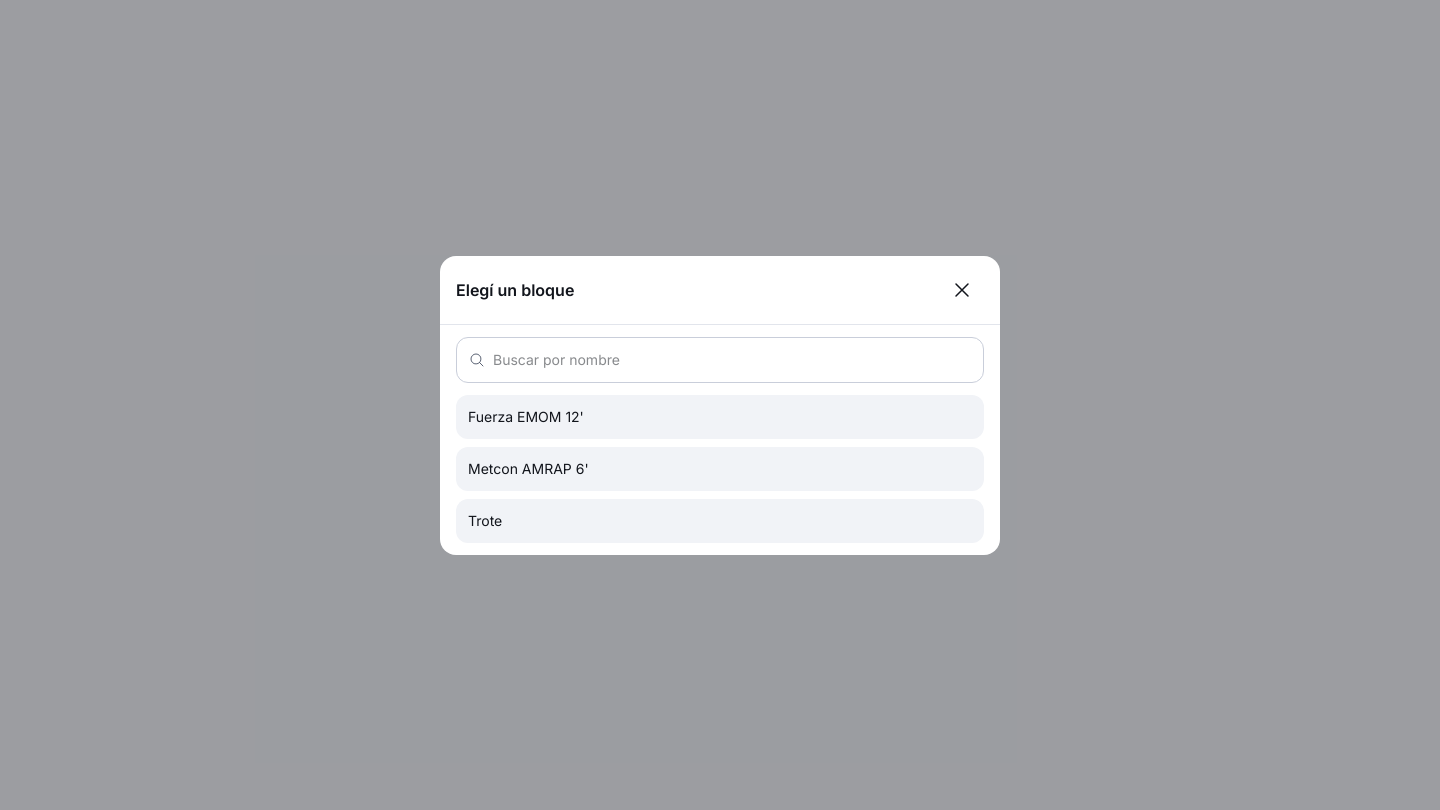
Test: QuickSelector › filtra por nombre
The image size is (1440, 810).
Type "metcon" into the search field at (732, 360), box [493,338,971,382]
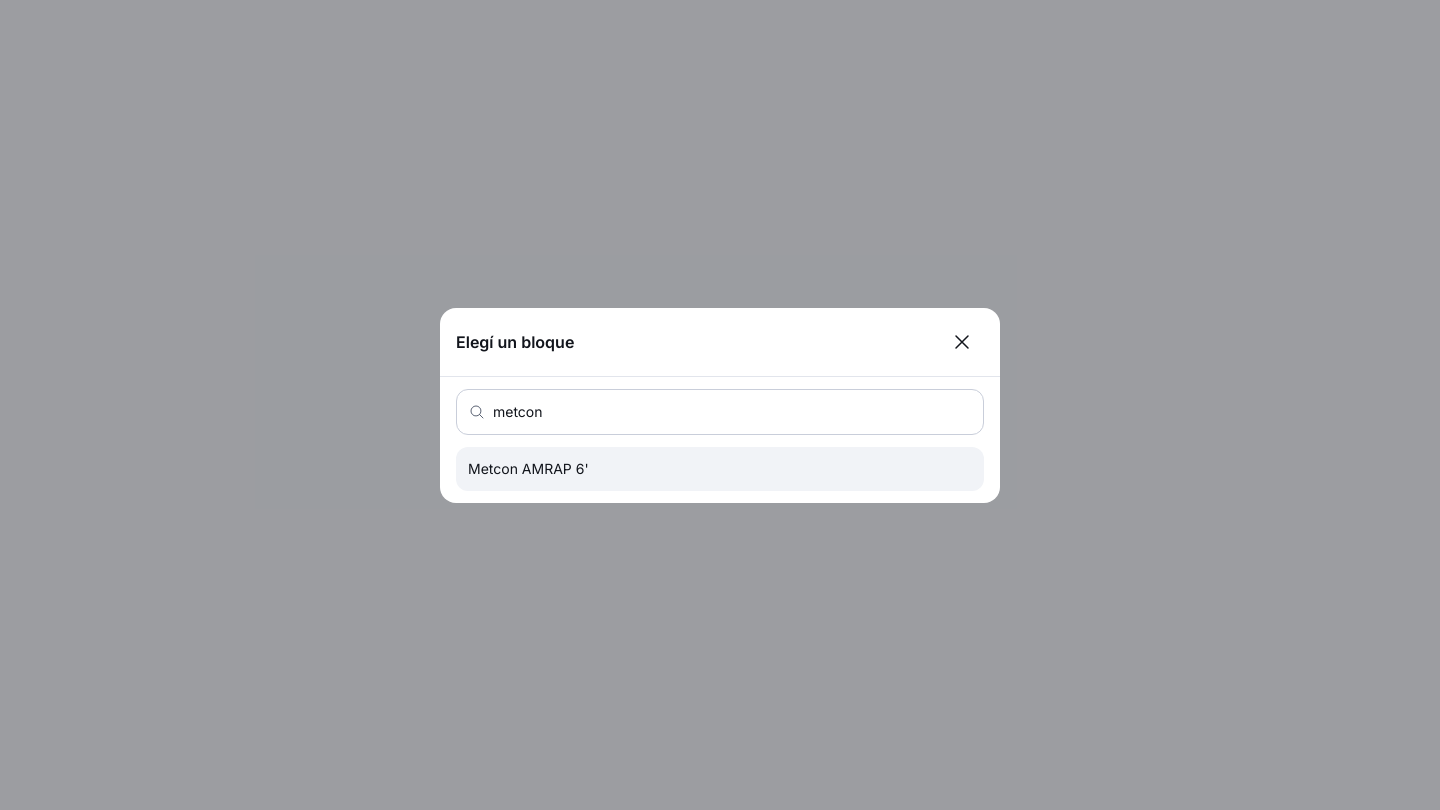
Expected: the button "Metcon AMRAP 6'" is shown, [456,446,984,490]
Expected: the button "Trote" is gone
